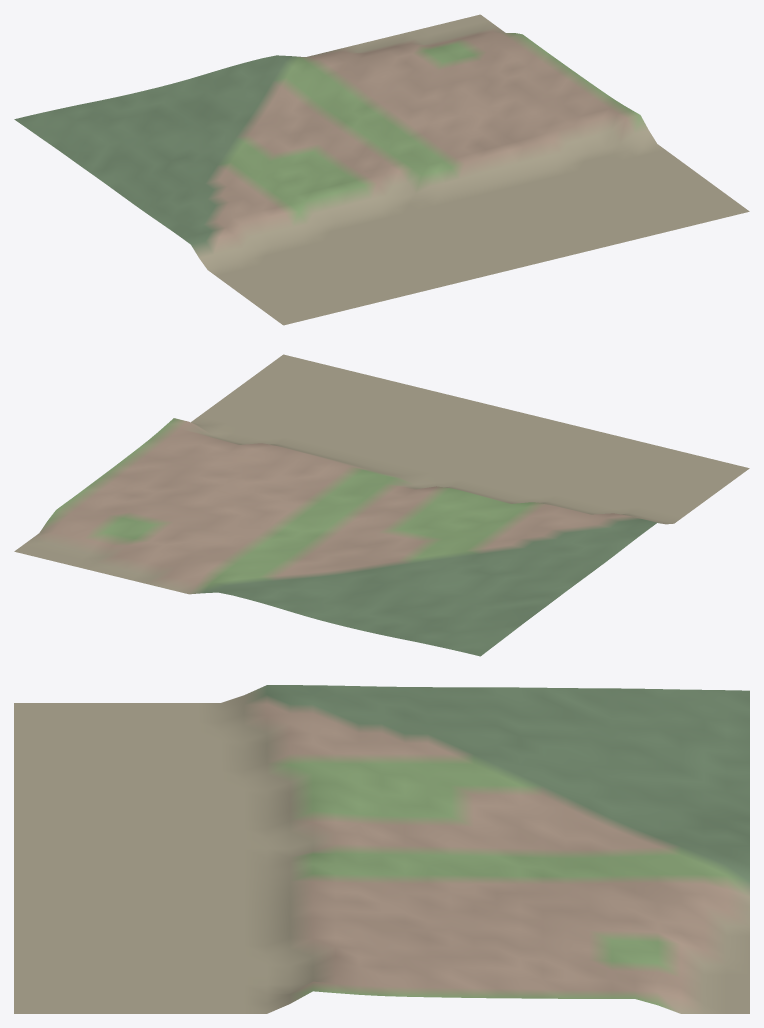
The picture shows the model from 3 angles, top to bottom: view 1: azimuth 30°, elevation 25°; view 2: azimuth 150°, elevation 25°; view 3: azimuth 270°, elevation 25°; orthographic projection. The views are drawn at different scales.
Parts seen in each view (by area): view 1: Terrain-col; view 2: Terrain-col; view 3: Terrain-col.
Part boxes in pixels (left/top/right/bottom): Terrain-col: left=14, top=14, right=749, bottom=325; Terrain-col: left=14, top=354, right=749, bottom=656; Terrain-col: left=14, top=685, right=749, bottom=1013.
Bounding box in the file's own units: 256 × 8.68 × 256.
